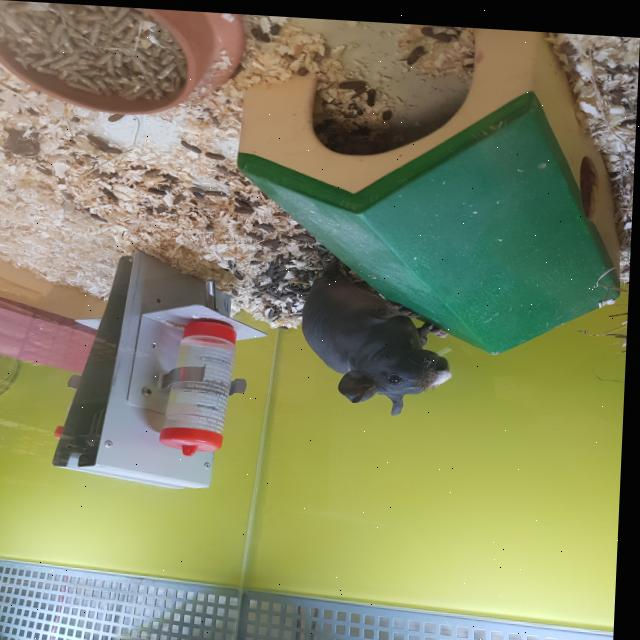guinea pig: (299, 247, 463, 415)
